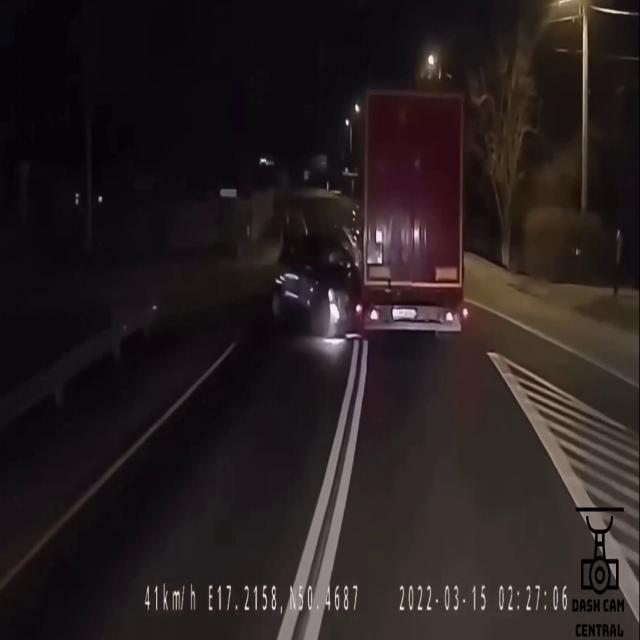accident: (272, 100, 466, 332)
